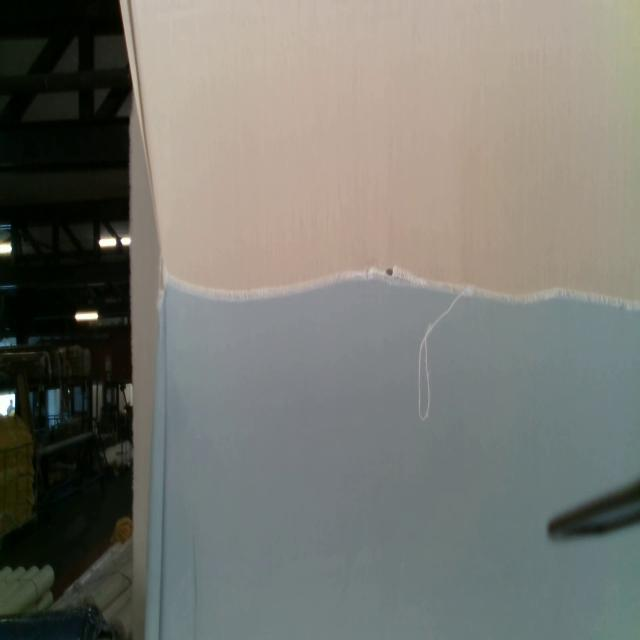hole: (385, 266, 394, 276)
